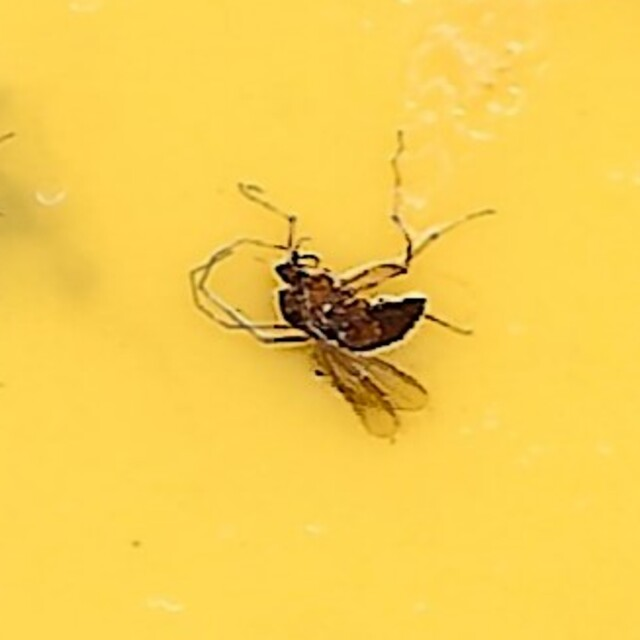Nematocera: (196, 189, 444, 451)
